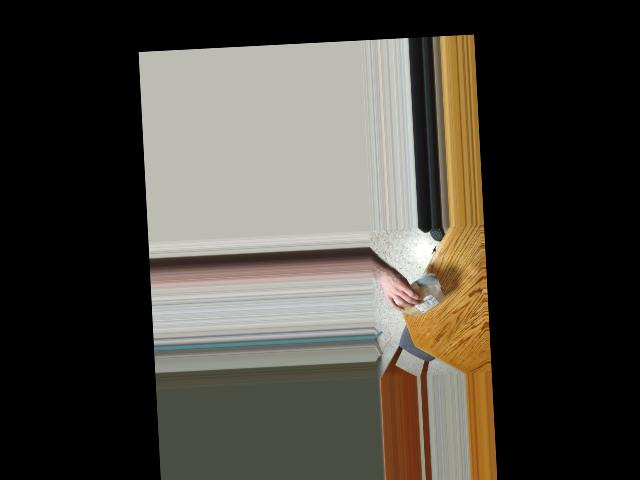cheese: (399, 284, 441, 315)
